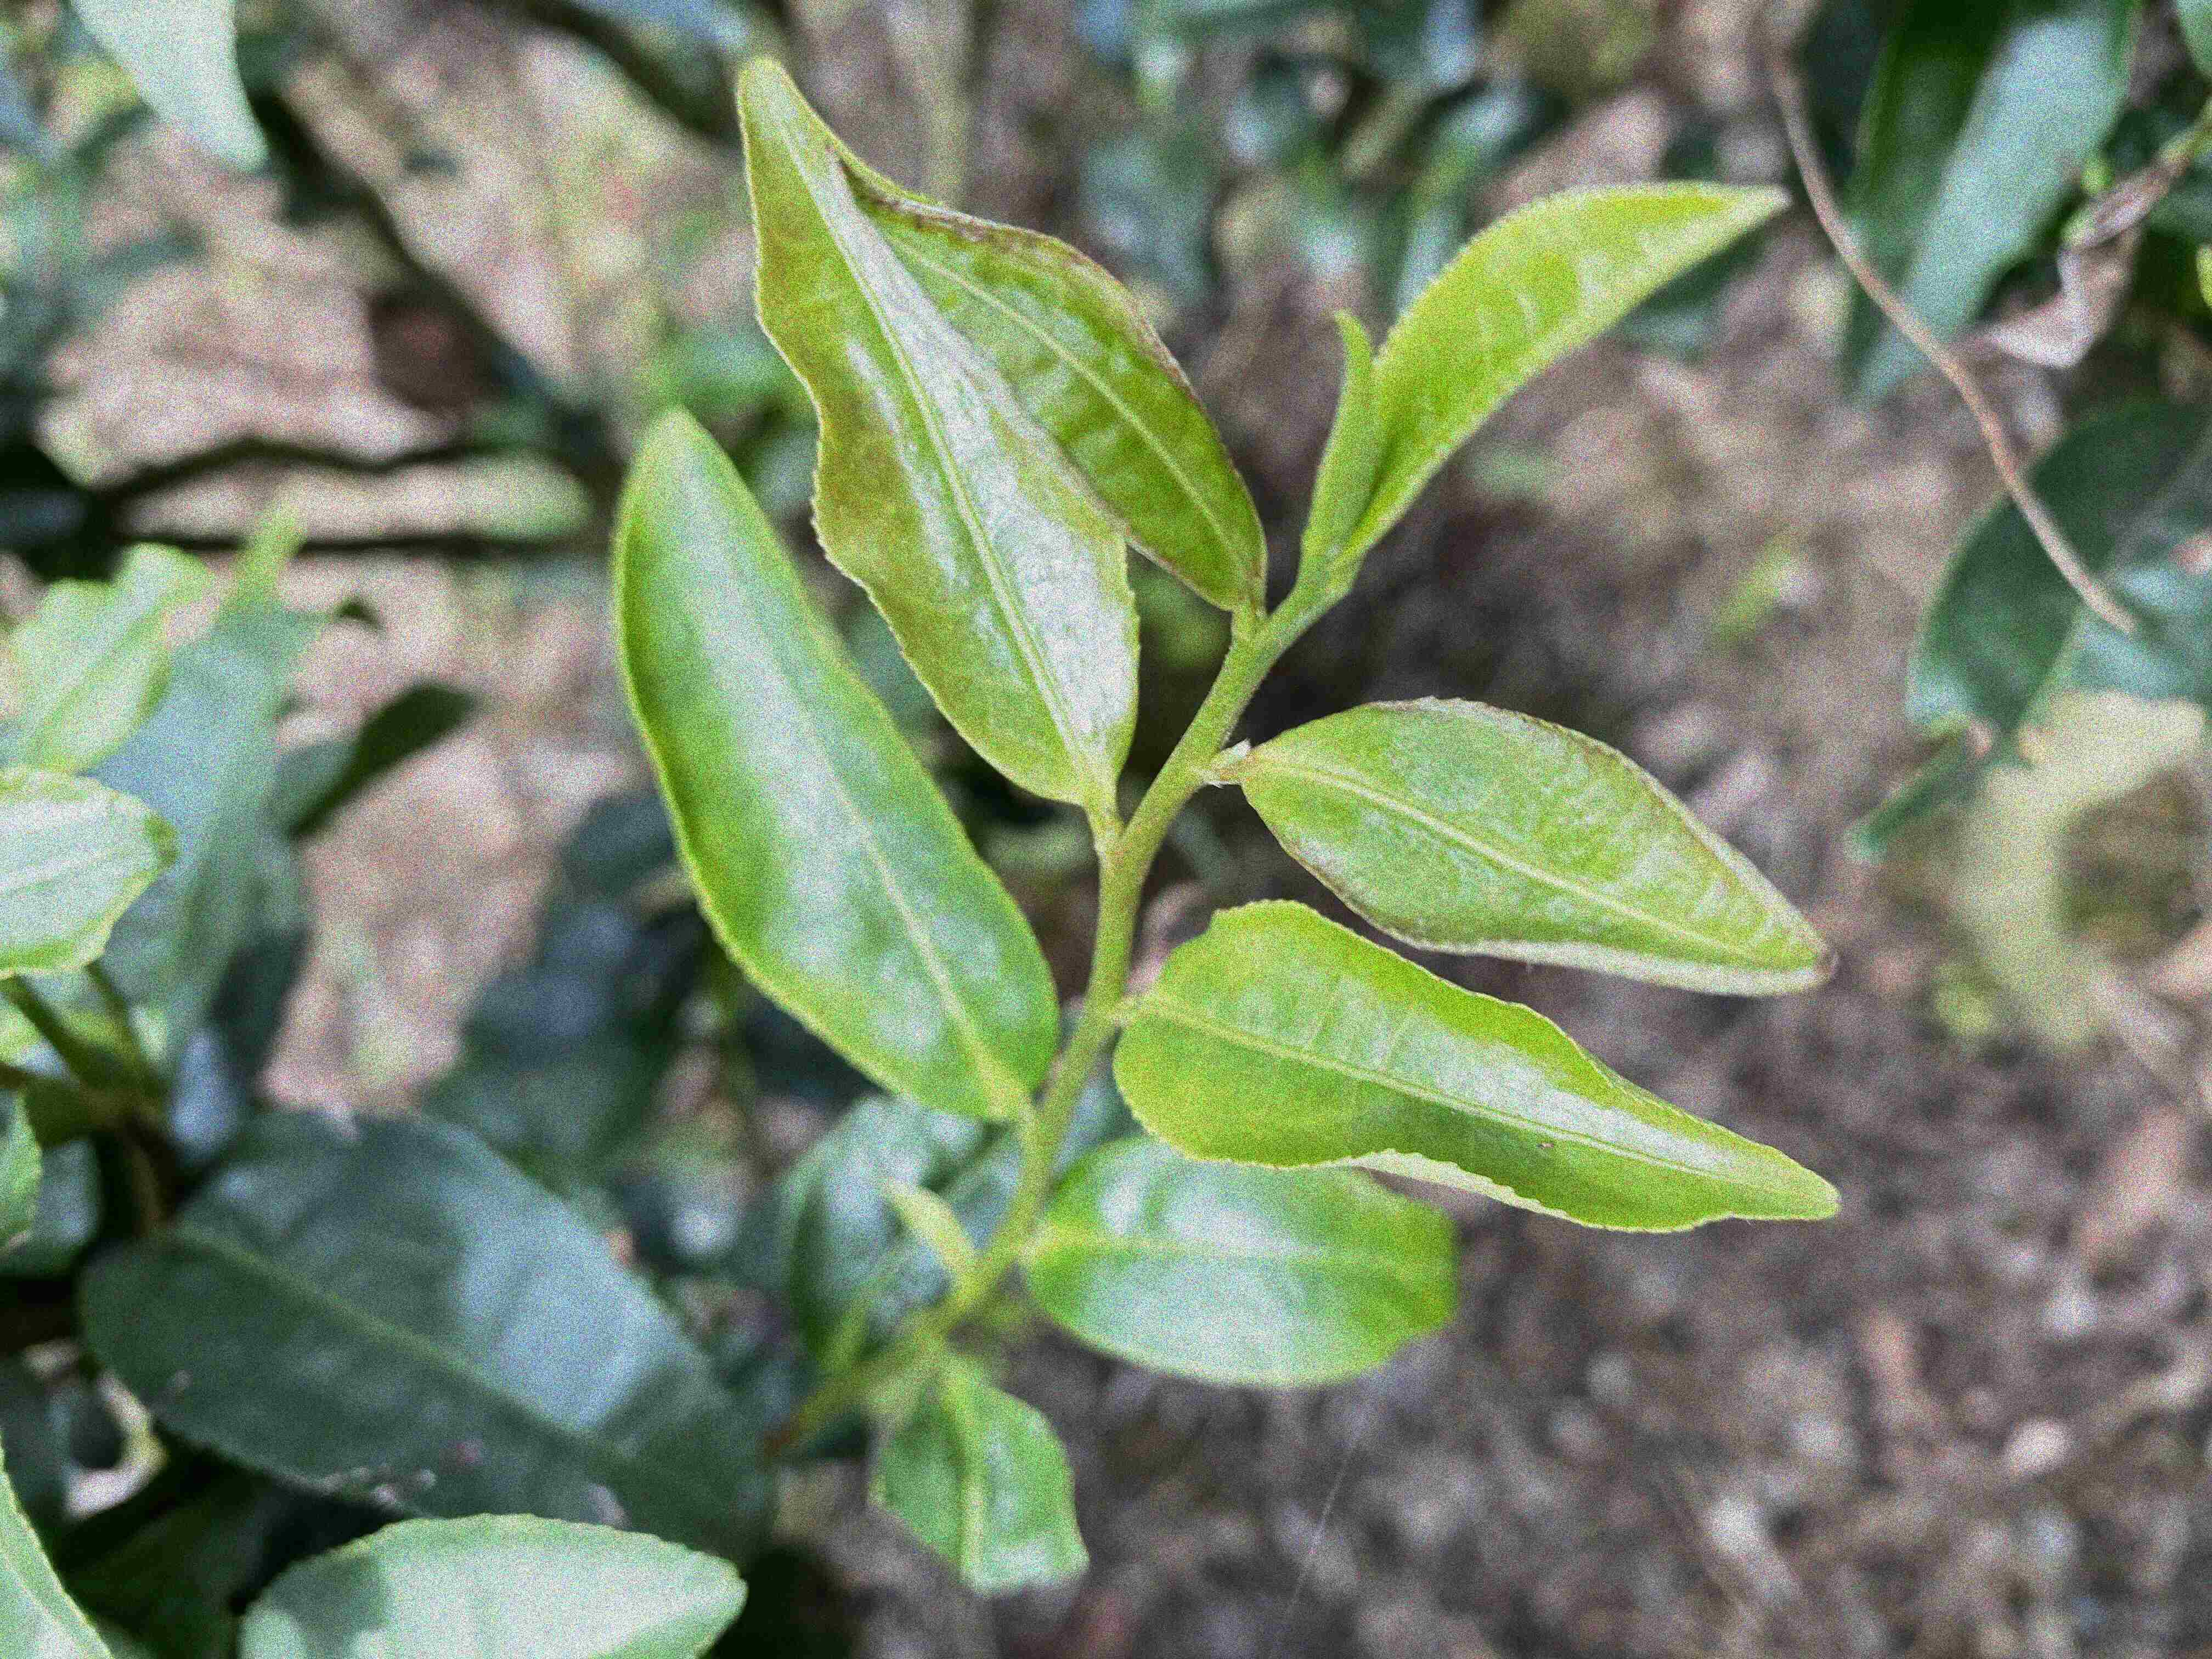healthy: (608, 403, 1064, 1124), (1111, 894, 1844, 1234), (1339, 179, 1796, 566)
tanju_low: (732, 54, 1143, 807), (819, 136, 1270, 608), (1240, 692, 1838, 1000)
